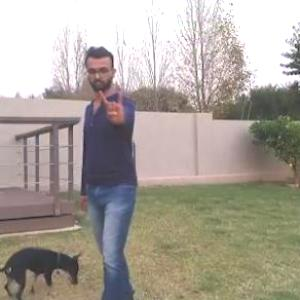takeoff-hand: (94, 84, 128, 130)
